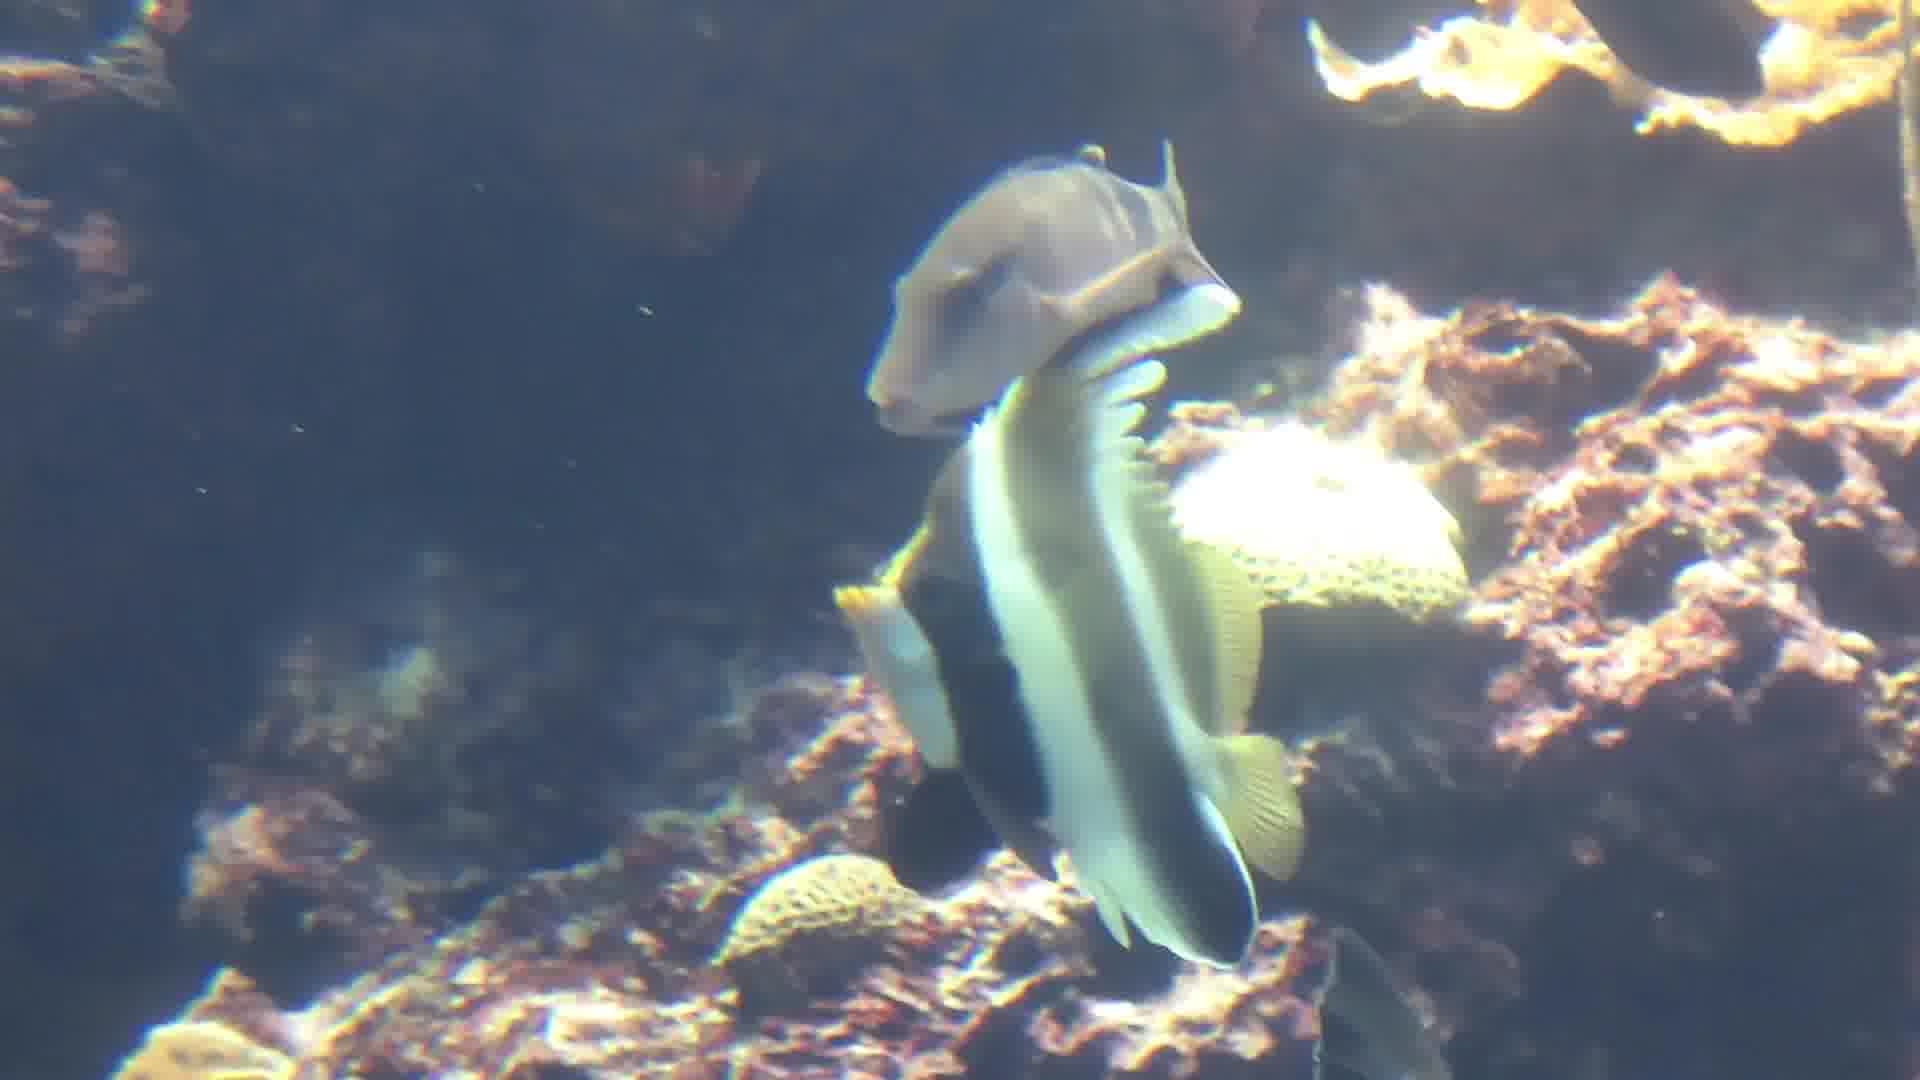Heniochus chrysostomus: (752, 345, 1393, 993)
